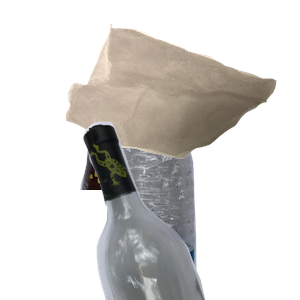glass: (81, 120, 300, 300)
metal: (78, 63, 266, 243)
plastic: (96, 120, 285, 300)
trash: (63, 21, 300, 172)
